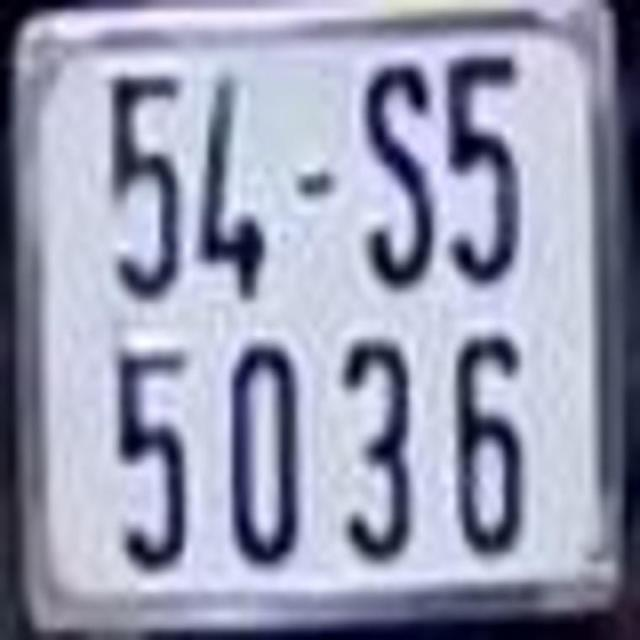0: (230, 342, 300, 565)
3: (340, 336, 413, 562)
4: (198, 71, 268, 300)
5: (446, 52, 524, 284), (107, 69, 183, 299), (116, 345, 190, 570)
6: (454, 332, 525, 556)
S: (360, 62, 434, 289)
